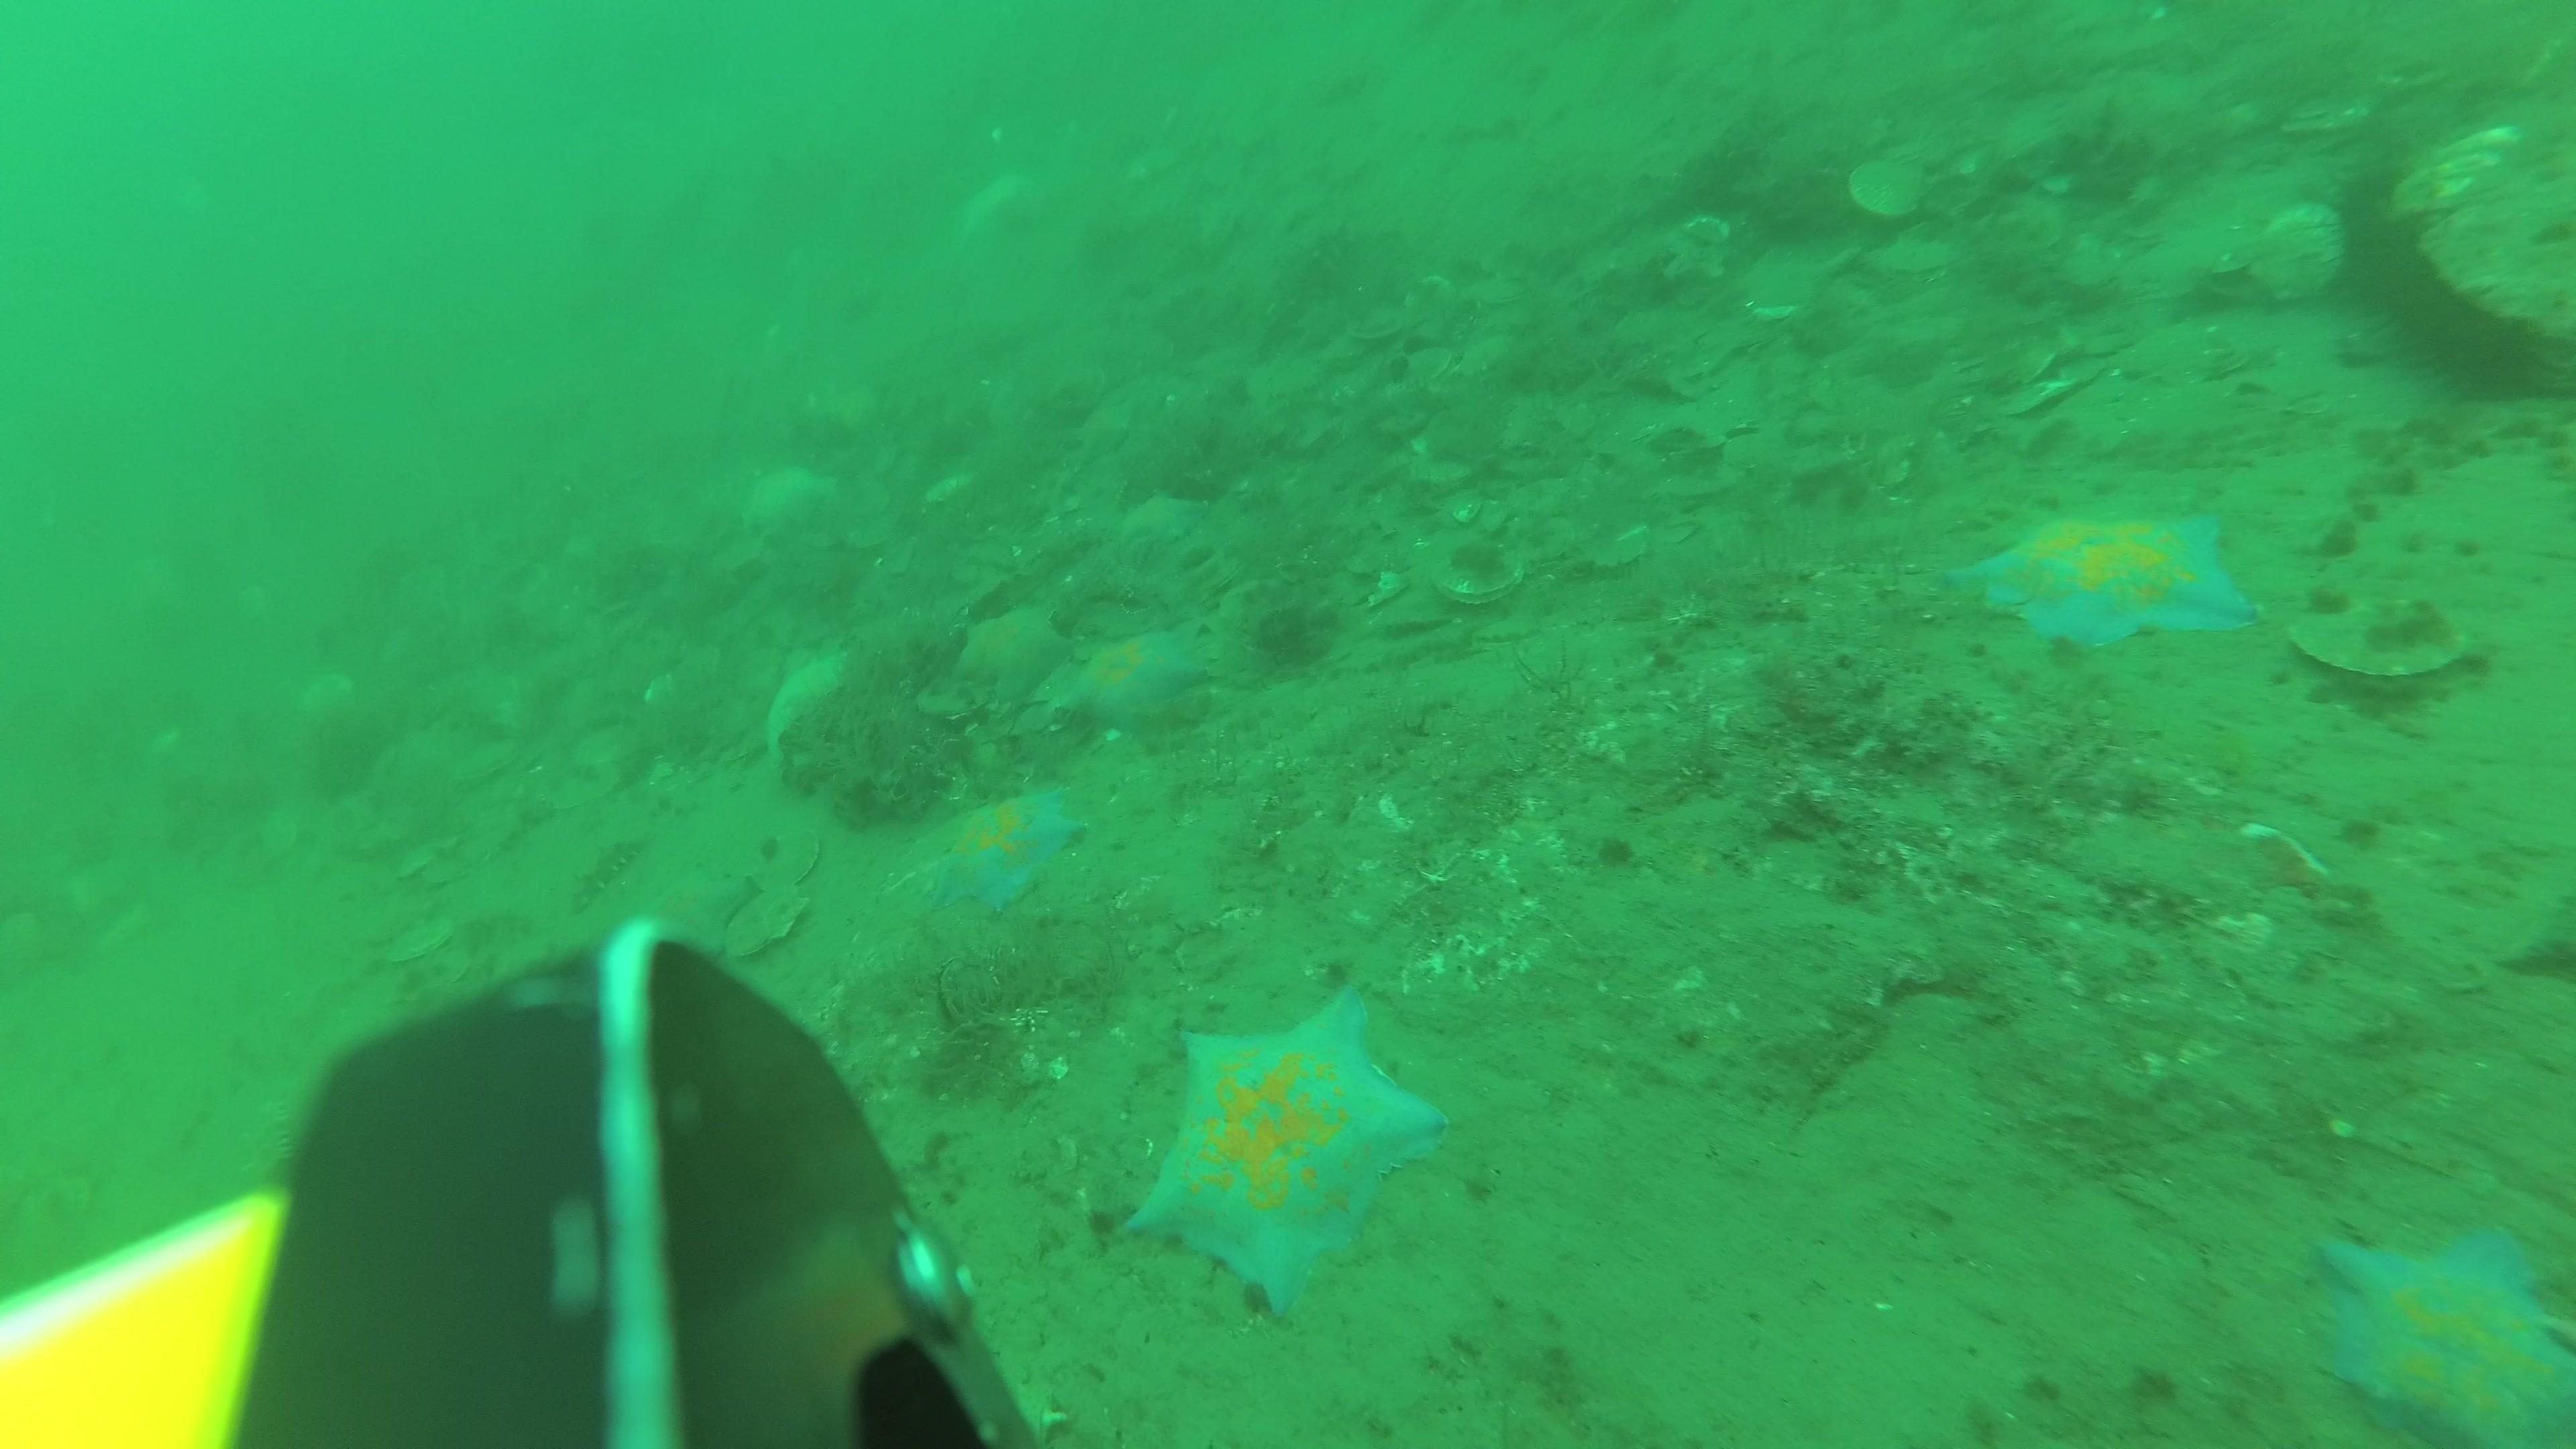echinus: (2321, 156, 2466, 324), (2408, 267, 2571, 400)
holothurian: (566, 830, 640, 913)
scallop: (2295, 594, 2470, 679), (2258, 203, 2348, 304), (727, 885, 805, 966), (1849, 161, 1932, 219), (1435, 552, 1522, 607), (759, 833, 819, 899), (384, 916, 449, 962)
starfish: (1127, 984, 1440, 1322), (2316, 1219, 2576, 1449), (1944, 511, 2265, 649), (943, 786, 1085, 916), (1067, 625, 1205, 741), (955, 600, 1069, 717), (644, 869, 755, 961), (1123, 494, 1214, 554)
